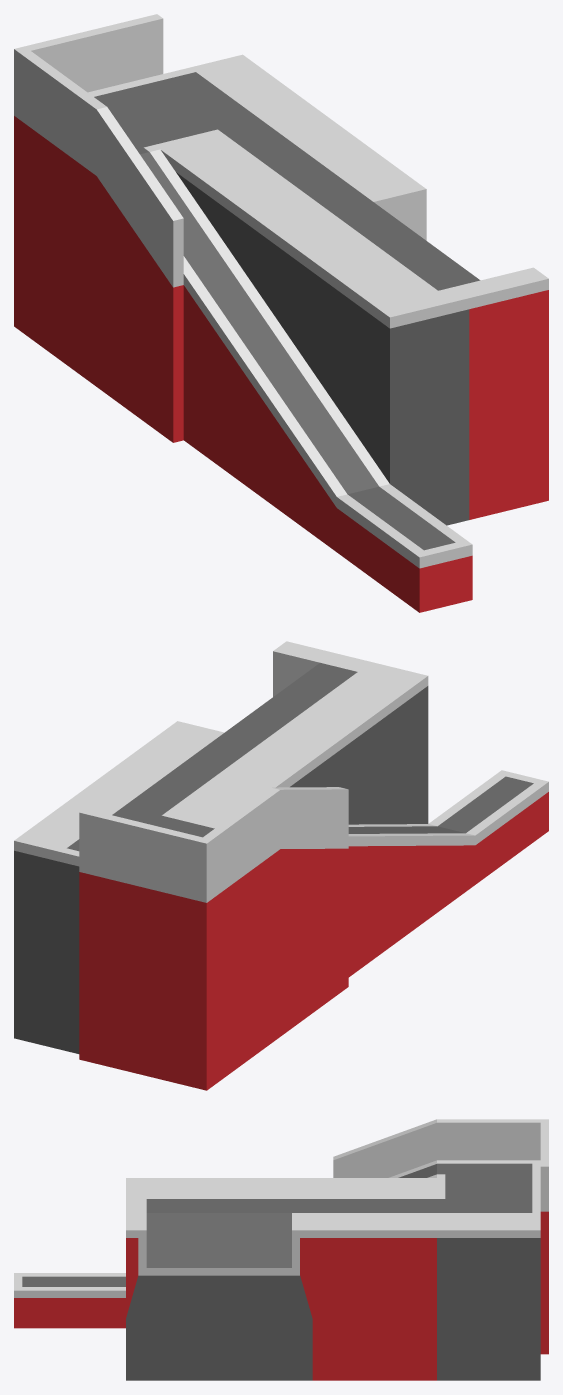
The model's file is BaseObj.fbx.
3 renders of one model, top to bottom at view 1: azimuth 30°, elevation 25°; view 2: azimuth 150°, elevation 25°; view 3: azimuth 270°, elevation 25°, orthographic. The views are drawn at different scales.
Visible parts, largest first — view 1: Base; view 2: Base; view 3: Base.
Part boxes in pixels (left/top/right/bottom): Base: left=14, top=14, right=548, bottom=612; Base: left=14, top=641, right=548, bottom=1090; Base: left=14, top=1119, right=548, bottom=1380.
Bounding box in the file's own units: 2100 × 2500 × 6450.
